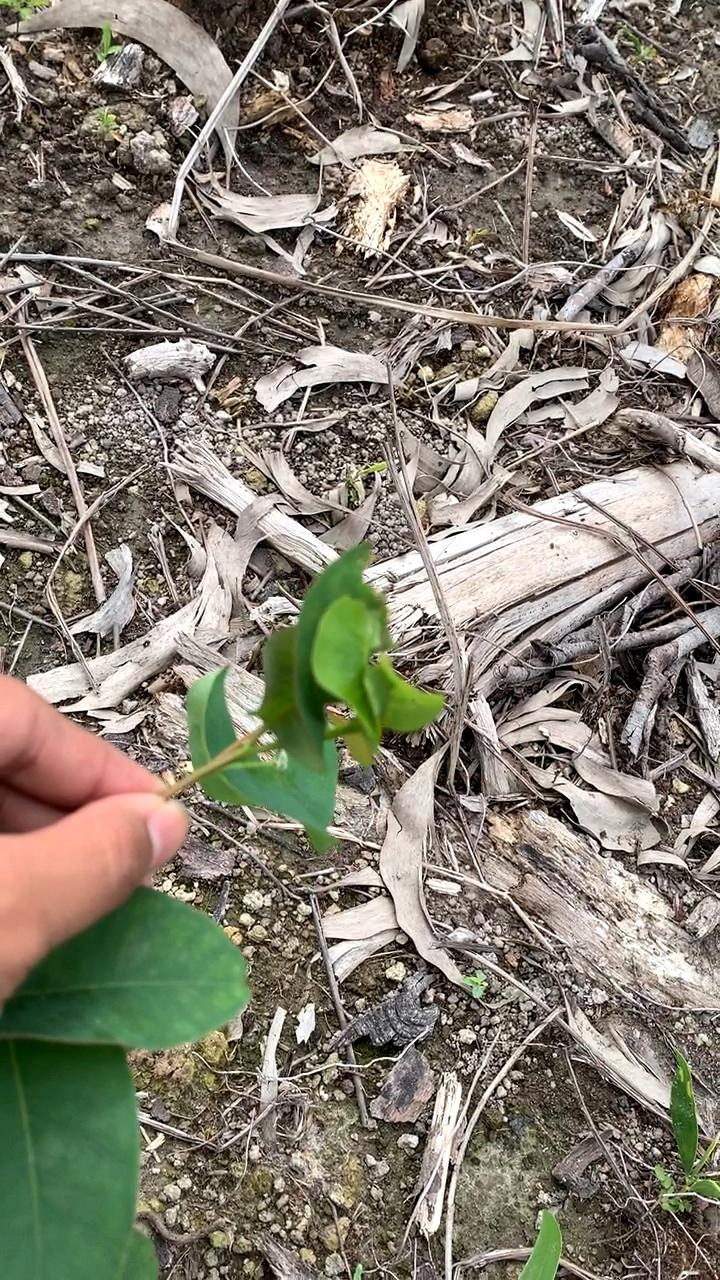Leaf Roller - Leaf: (266, 548, 451, 777)
